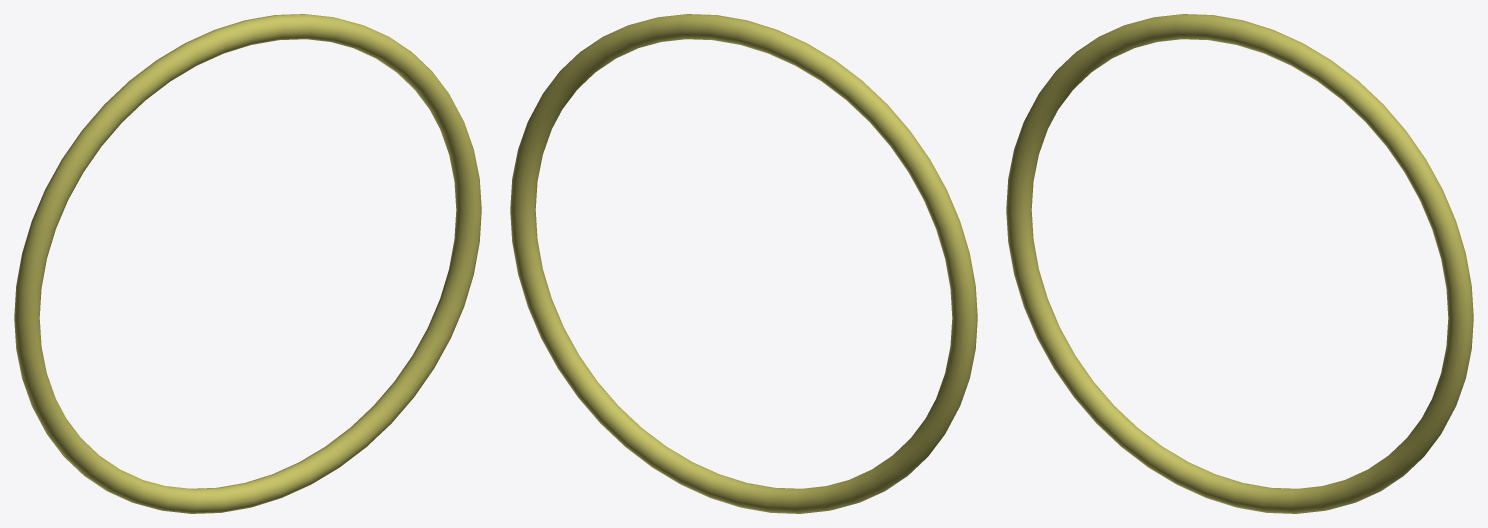
File: ring.glb
The picture shows the model from 3 angles, left to right: view 1: azimuth 30°, elevation 25°; view 2: azimuth 150°, elevation 25°; view 3: azimuth 330°, elevation 25°; orthographic projection.
Visible parts, largest first — view 1: Torus; view 2: Torus; view 3: Torus.
Boxes of the visible parts, bbox=[...] form: Torus: bbox=[14, 14, 481, 513]; Torus: bbox=[510, 14, 977, 513]; Torus: bbox=[1006, 14, 1473, 513].
Bounding box in the file's own units: 1.05 × 1.05 × 0.05.
